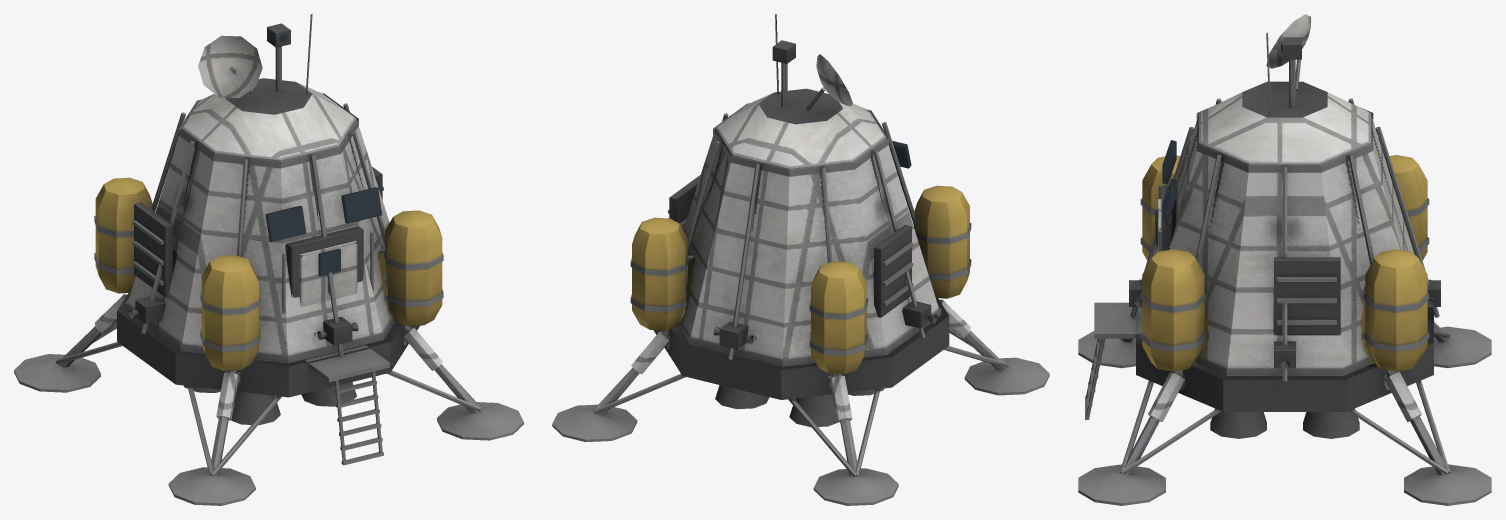
File: lander.glb
3 views of the same model, side by side, from view 1: azimuth 30°, elevation 25°; view 2: azimuth 150°, elevation 25°; view 3: azimuth 270°, elevation 25° (orthographic). The views are drawn at different scales.
Parts seen in each view (by area): view 1: Lander_Body; view 2: Lander_Body; view 3: Lander_Body.
Part boxes in pixels (<box>): Lander_Body: <box>14,14,523,505</box>; Lander_Body: <box>552,14,1049,505</box>; Lander_Body: <box>1078,14,1491,505</box>.
Size of the model in its own units: 5.62 by 5.97 by 5.56.
Materials: 2 (2 with a texture image).
